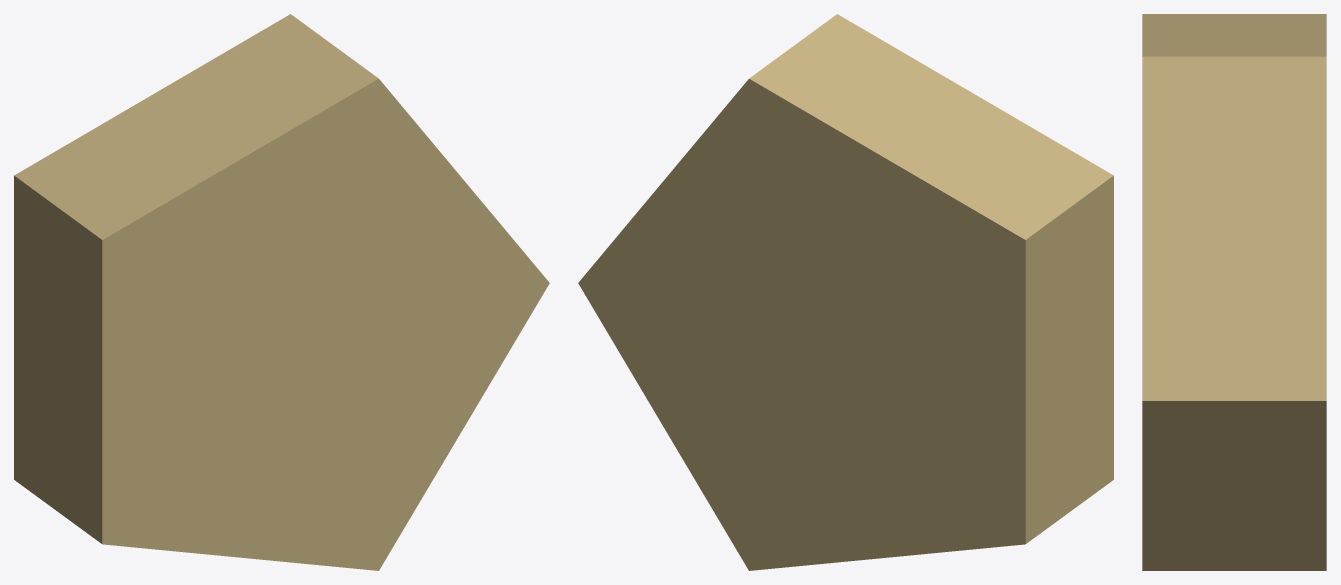
File: koma-placeholder.glb
3 views of the same model, side by side, from view 1: azimuth 30°, elevation 25°; view 2: azimuth 150°, elevation 25°; view 3: azimuth 270°, elevation 25° (orthographic). The views are drawn at different scales.
Parts seen in each view (by area): view 1: world; view 2: world; view 3: world.
Part boxes in pixels (x1,y1,x2,y2): world: (14, 14, 549, 570); world: (578, 14, 1113, 570); world: (1142, 14, 1326, 570).
Size of the model in its own units: 0.995 by 1.05 by 0.34.
